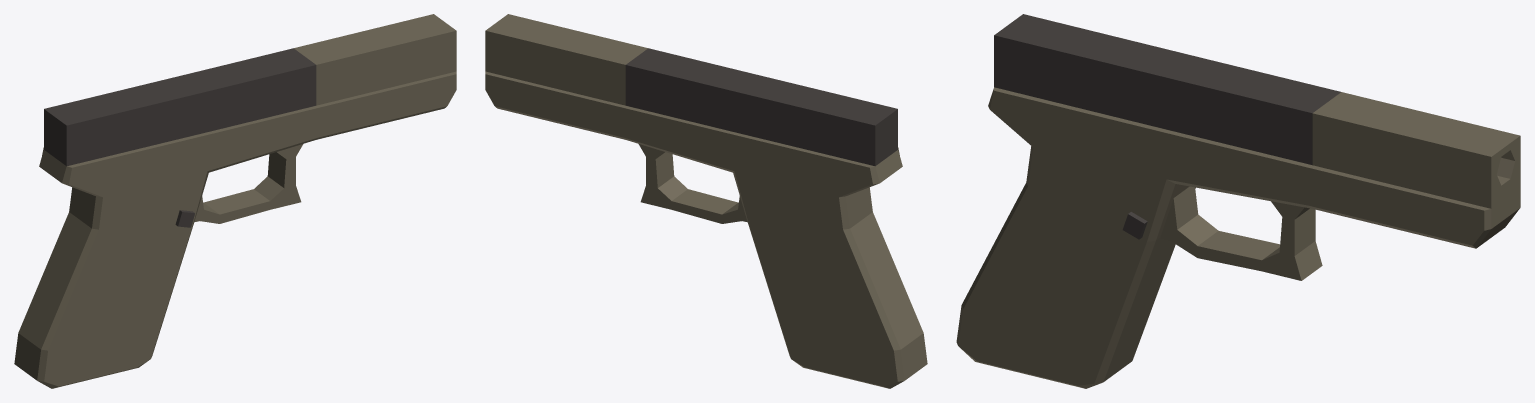
File: Pistol4_03.fbx
3 renders of one model, left to right at view 1: azimuth 30°, elevation 25°; view 2: azimuth 150°, elevation 25°; view 3: azimuth 330°, elevation 25°, orthographic. The views are drawn at different scales.
Visible parts, largest first — view 1: Pistol4_03; view 2: Pistol4_03; view 3: Pistol4_03.
Part boxes in pixels (x1,y1,x2,y2): Pistol4_03: [14, 14, 456, 388]; Pistol4_03: [485, 14, 927, 388]; Pistol4_03: [956, 14, 1520, 388].
Size of the model in its own units: 0.2392 by 0.1415 by 0.0305.
